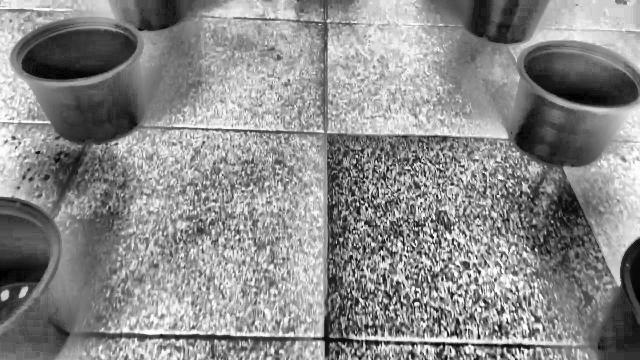pot: (8, 17, 146, 144), (510, 40, 640, 168)
